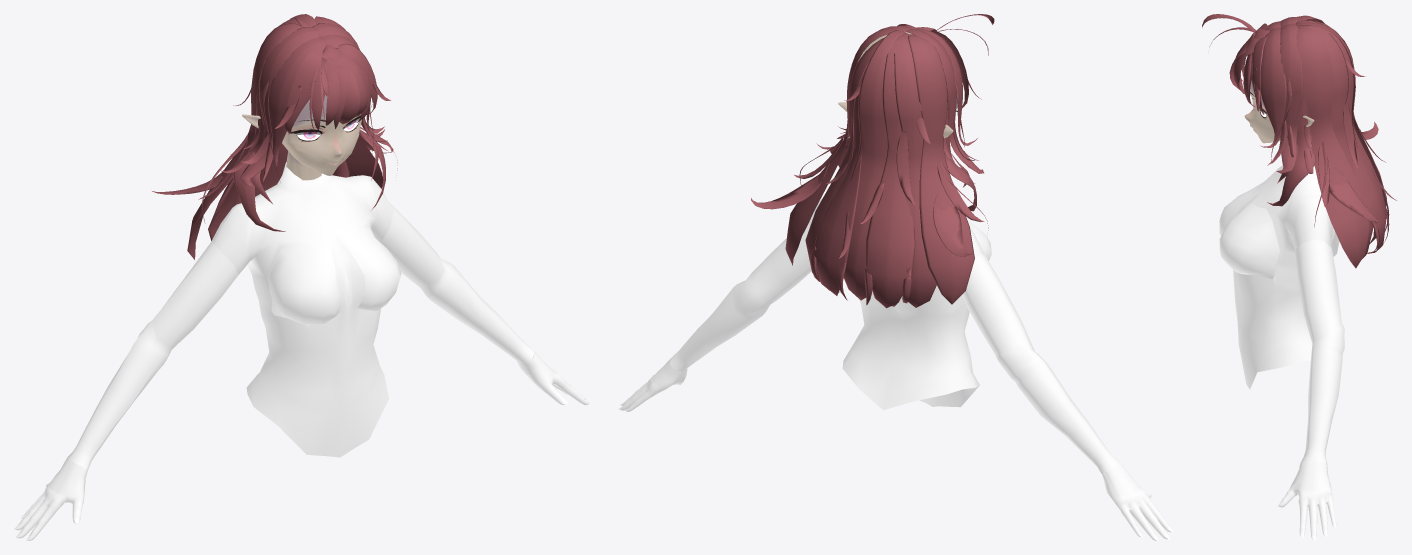
Rendered from gcb_feminine_test_01.glb.
3 views of the same model, side by side, from view 1: azimuth 30°, elevation 25°; view 2: azimuth 150°, elevation 25°; view 3: azimuth 270°, elevation 25° (orthographic). The views are drawn at different scales.
Visible parts, largest first — view 1: body.003; view 2: body.003; view 3: body.003.
Part boxes in pixels (bbox=[...]): body.003: bbox=[14, 14, 589, 540]; body.003: bbox=[619, 14, 1173, 540]; body.003: bbox=[1202, 14, 1396, 540].
Size of the model in its own units: 0.7708 by 0.5844 by 0.2608.
Materials: 7 (2 with a texture image).
